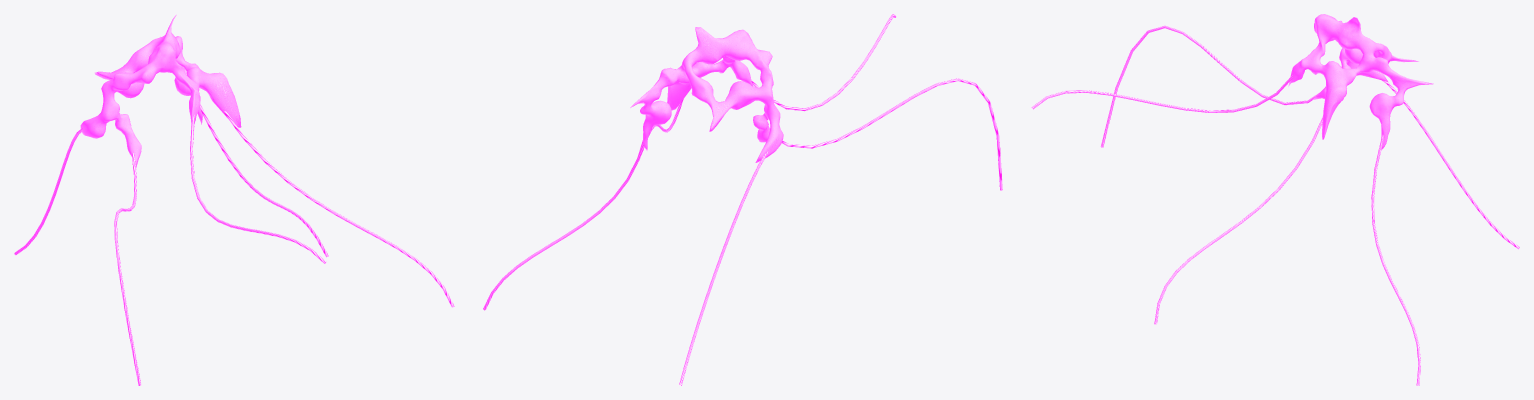
The model's file is top3.glb.
3 renders of one model, left to right at view 1: azimuth 30°, elevation 25°; view 2: azimuth 150°, elevation 25°; view 3: azimuth 270°, elevation 25°, orthographic. The views are drawn at different scales.
Parts seen in each view (by area): view 1: Mball.027, BezierCurve, BezierCurve.002, BezierCurve.001, BezierCurve.003, BezierCurve.004; view 2: Mball.027, BezierCurve.002, BezierCurve.004, BezierCurve.003, BezierCurve.001; view 3: Mball.027, BezierCurve.002, BezierCurve.001, BezierCurve, BezierCurve.003, BezierCurve.004.
Boxes of the visible parts, bbox=[...] form: Mball.027: bbox=[80, 14, 241, 167]; BezierCurve: bbox=[224, 111, 454, 307]; BezierCurve.002: bbox=[114, 153, 141, 385]; BezierCurve.001: bbox=[190, 114, 326, 263]; BezierCurve.003: bbox=[200, 104, 328, 257]; BezierCurve.004: bbox=[14, 128, 83, 254]; Mball.027: bbox=[630, 27, 783, 162]; BezierCurve.002: bbox=[782, 78, 1002, 190]; BezierCurve.004: bbox=[679, 150, 769, 385]; BezierCurve.003: bbox=[483, 140, 643, 310]; BezierCurve.001: bbox=[751, 14, 896, 111]; Mball.027: bbox=[1288, 14, 1433, 149]; BezierCurve.002: bbox=[1101, 25, 1319, 147]; BezierCurve.001: bbox=[1031, 75, 1292, 112]; BezierCurve: bbox=[1154, 116, 1322, 324]; BezierCurve.003: bbox=[1371, 135, 1420, 385]; BezierCurve.004: bbox=[1382, 80, 1519, 249].
Bounding box in the file's own units: 324 × 263 × 408.
Materials: 1 (1 with a texture image).
